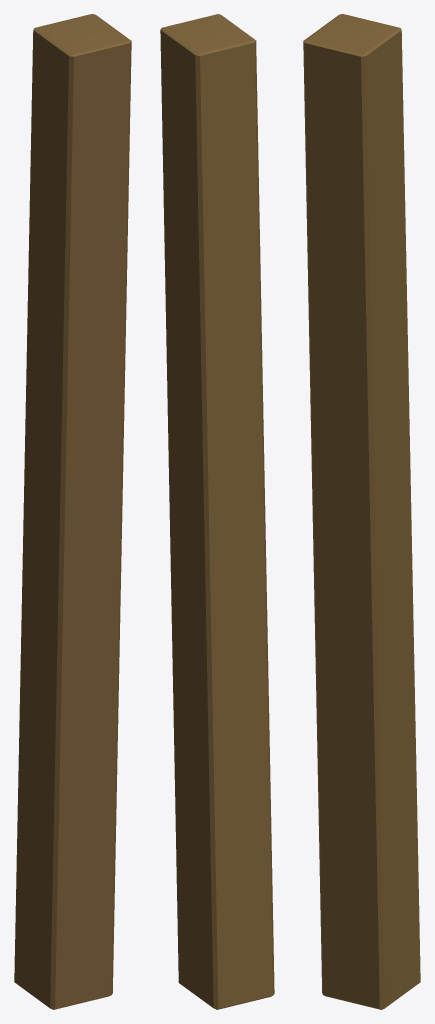
Rendered from PillarTall.fbx.
3 views of the same model, side by side, from view 1: azimuth 30°, elevation 25°; view 2: azimuth 210°, elevation 25°; view 3: azimuth 330°, elevation 25° (orthographic). The views are drawn at different scales.
Parts seen in each view (by area): view 1: Wood_Beam_Tall; view 2: Wood_Beam_Tall; view 3: Wood_Beam_Tall.
Boxes of the visible parts, x1,y1,x2,y2 form: Wood_Beam_Tall: (14, 14, 131, 1009); Wood_Beam_Tall: (160, 14, 274, 1009); Wood_Beam_Tall: (303, 14, 420, 1009).
Size of the model in its own units: 0.2423 by 3.58 by 0.3907.
